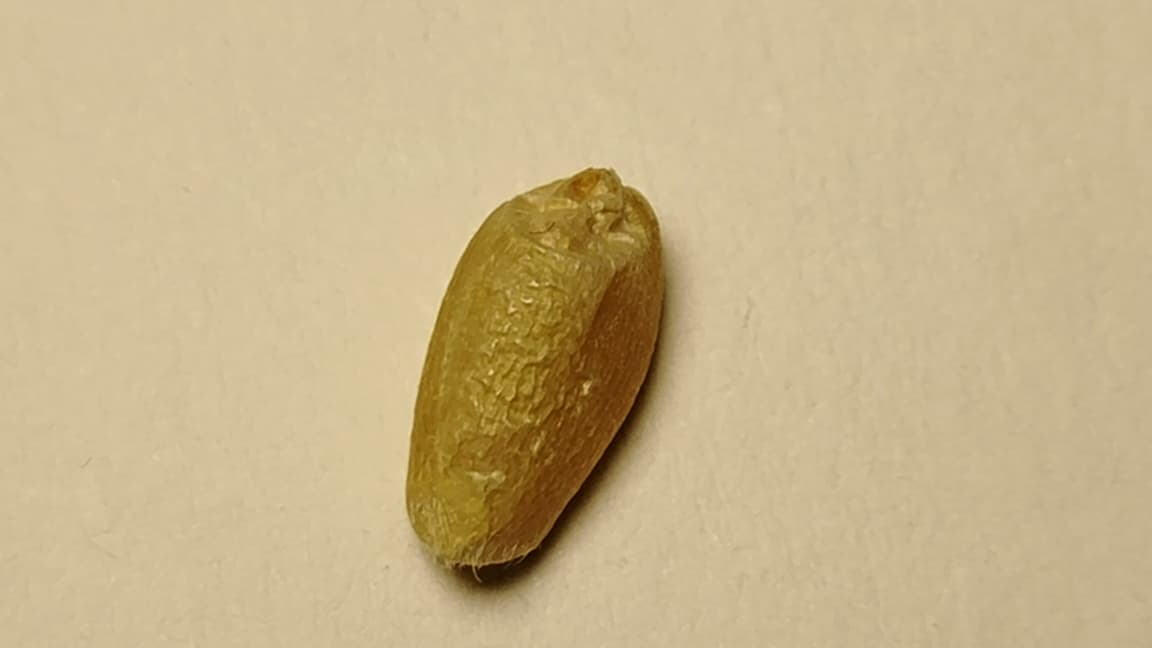healthy: (406, 168, 664, 566)
